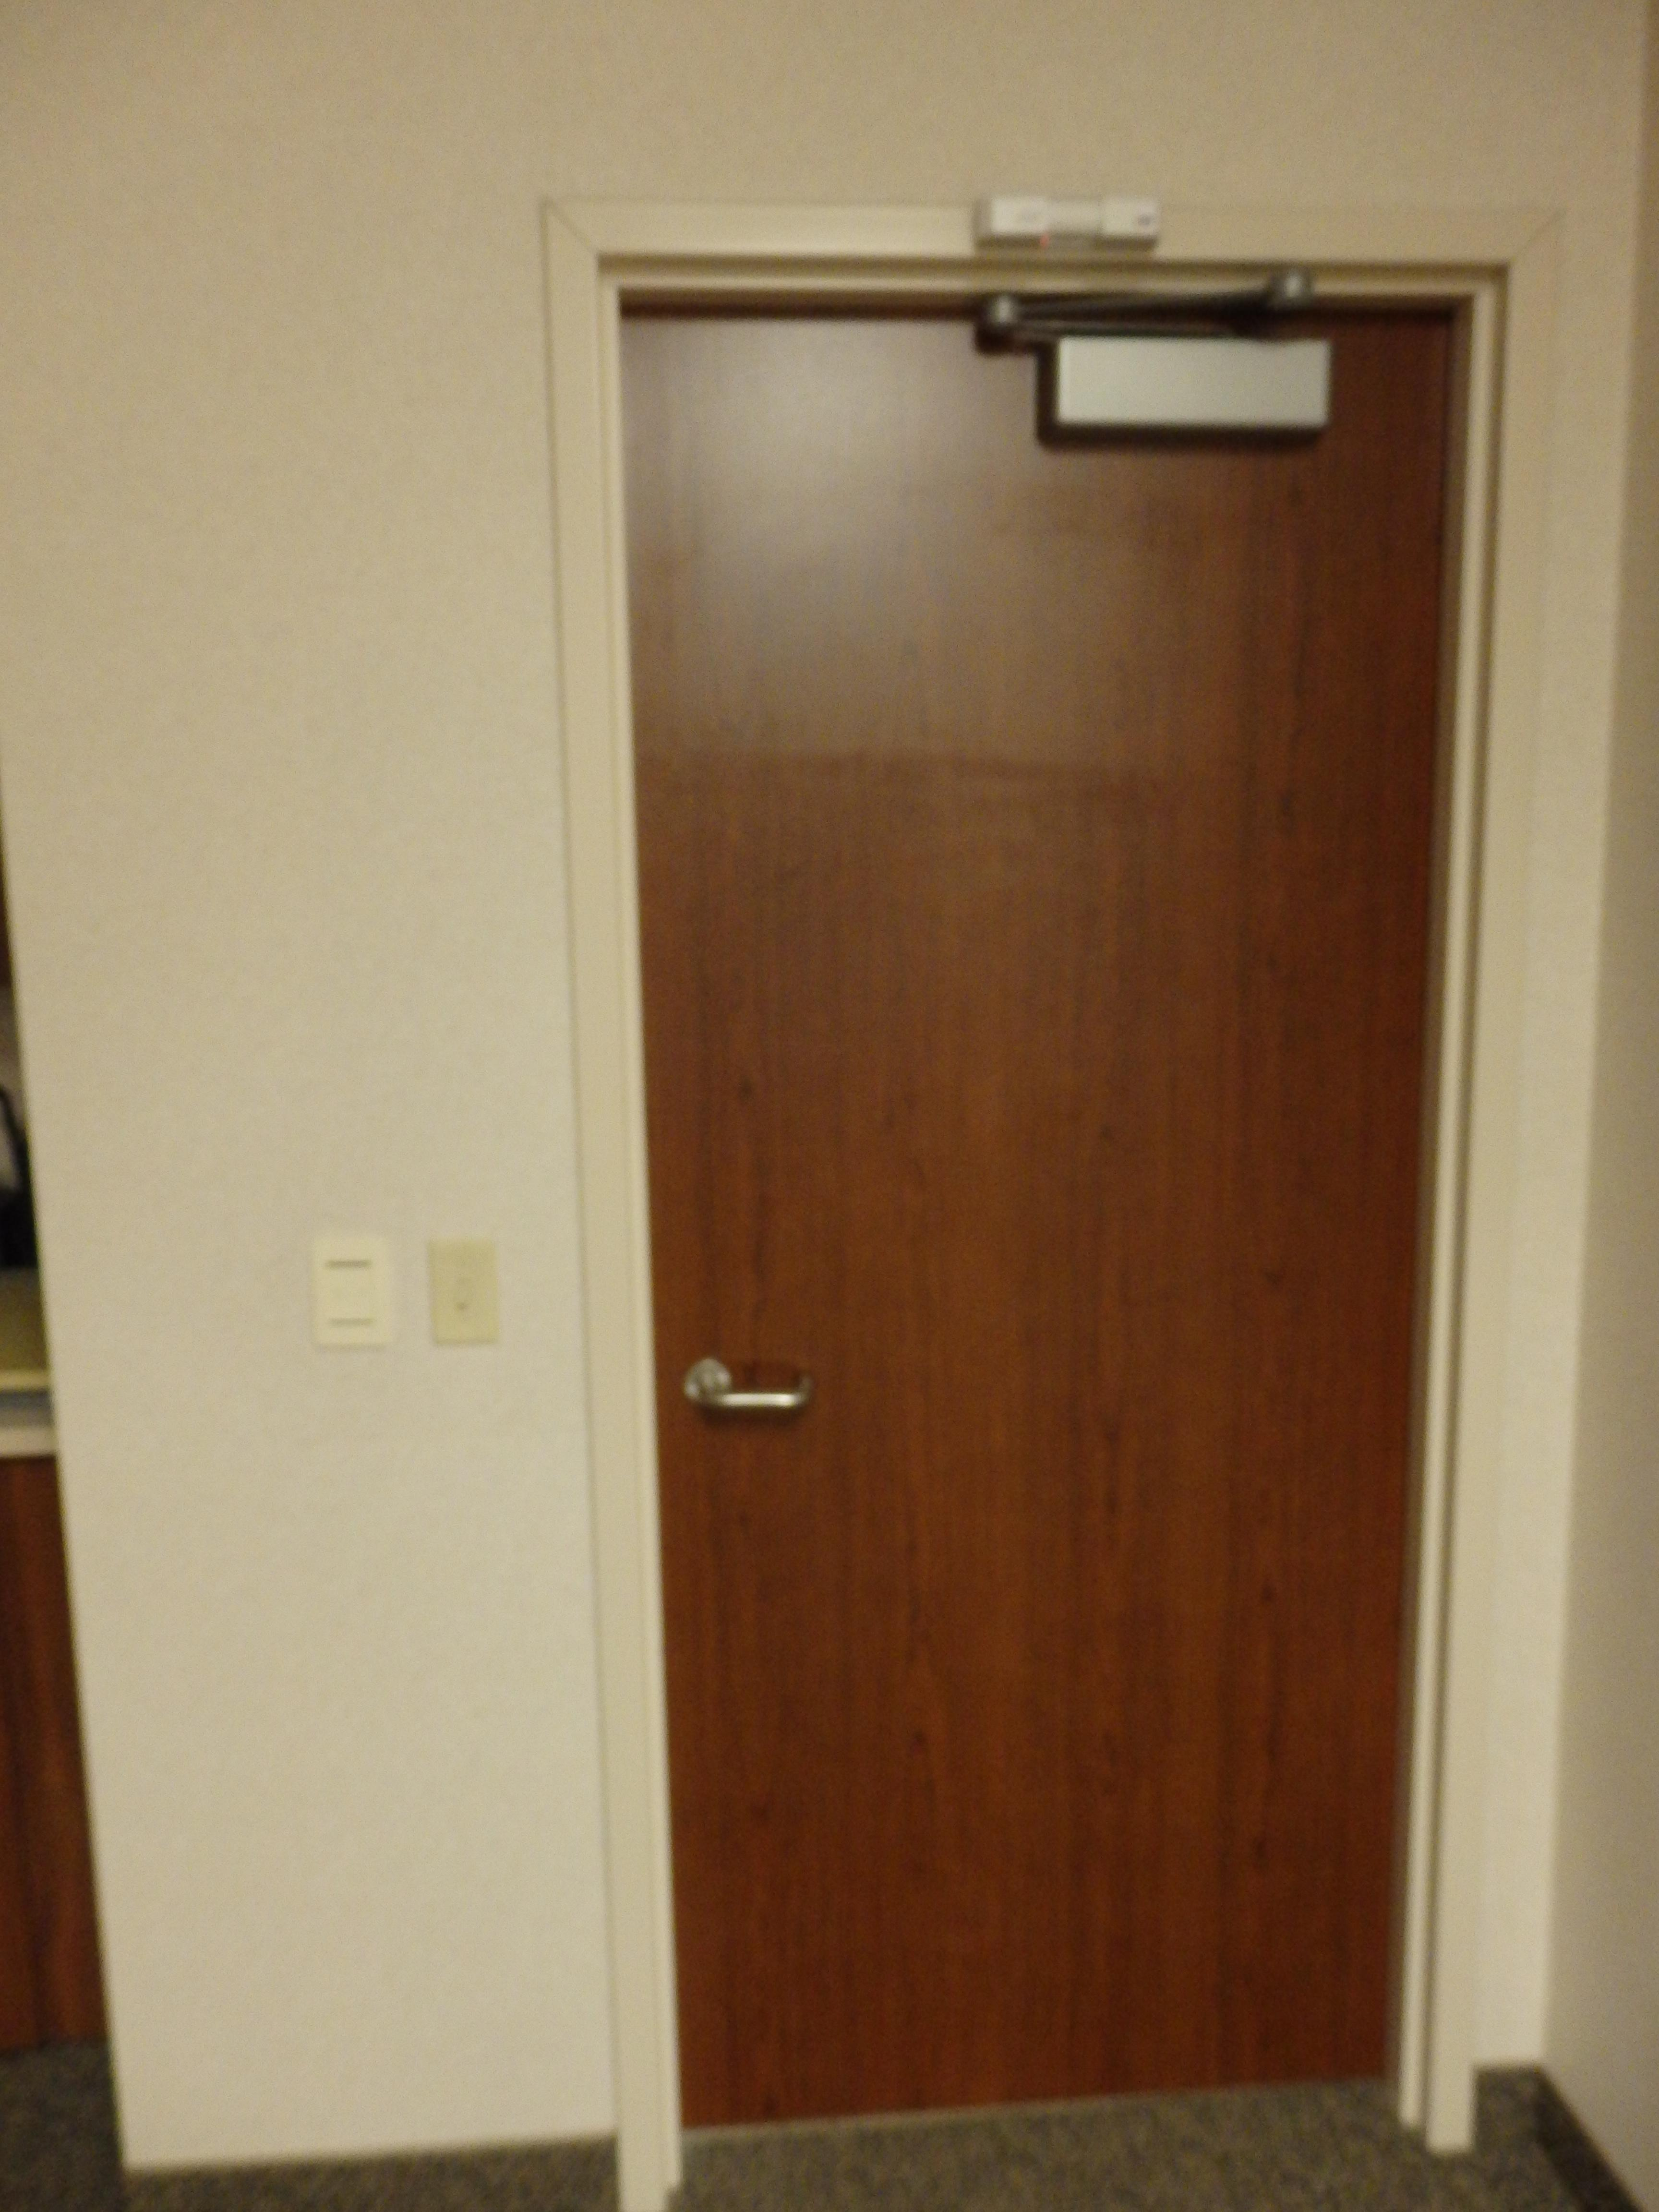door: (587, 247, 1434, 2120)
